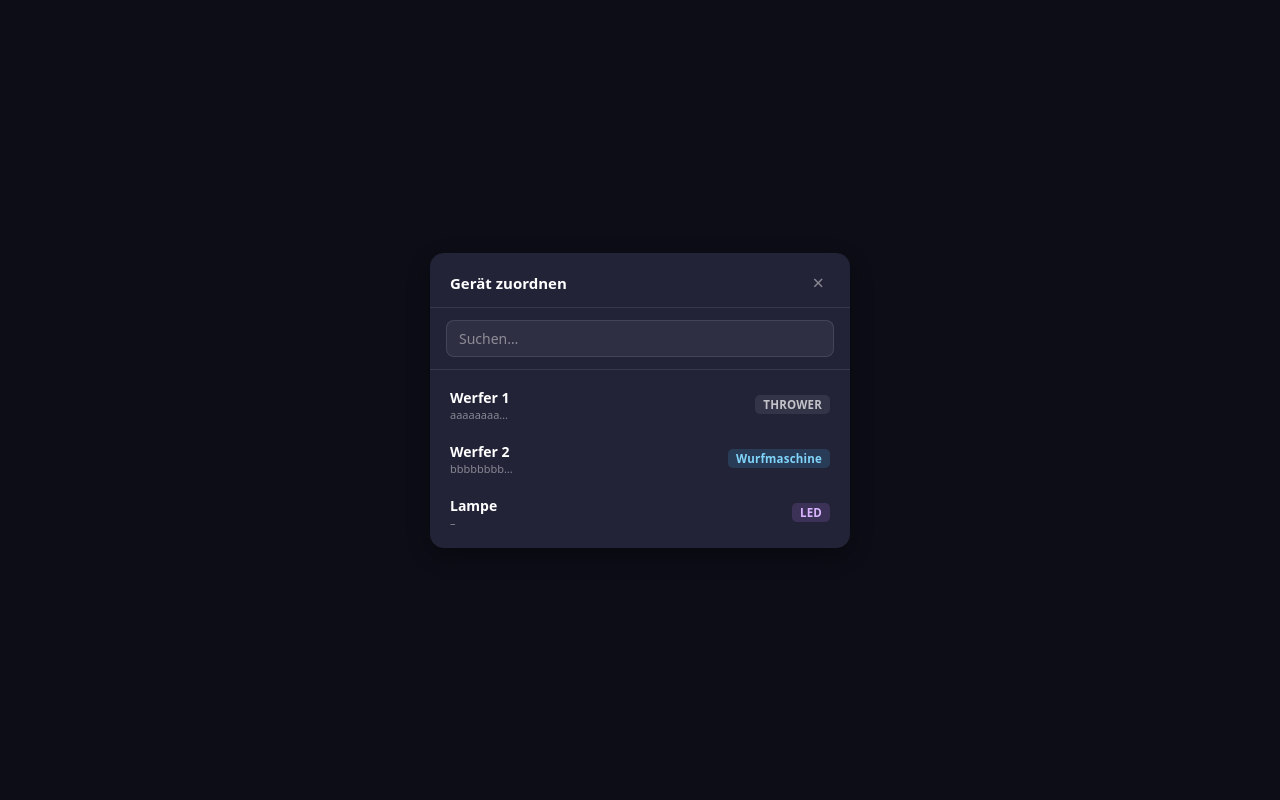
DeviceSearchModal › filters devices by alias (case-insensitive)
This screenshot has width=1280, height=800.
In the field with placeholder "Suchen…": coordinates (640, 338) top-left (446, 320), bottom-right (834, 356), type "lampe"
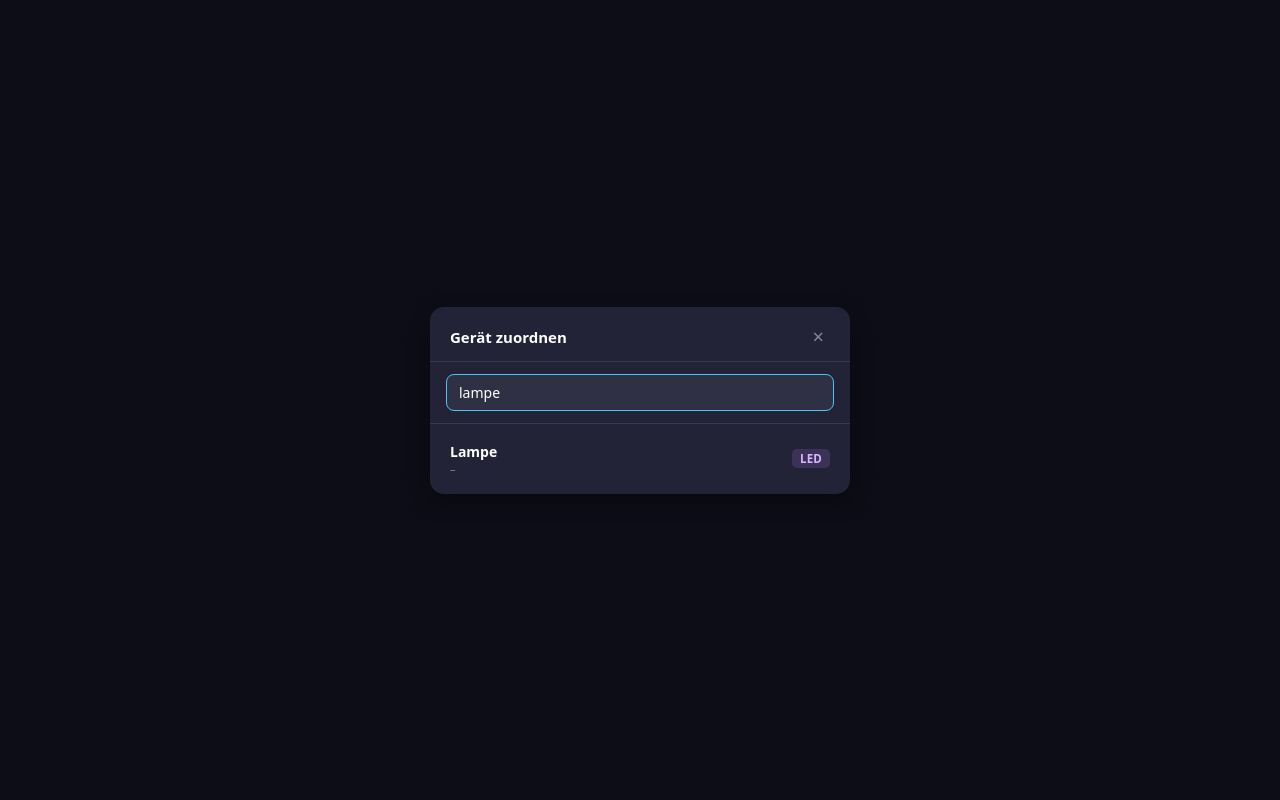
Expected: the button with class "device-row" shows "Lampe", top-left (430, 432), bottom-right (850, 486)
Expected: the number of buttons with class "device-row" is 1, top-left (430, 432), bottom-right (850, 486)
